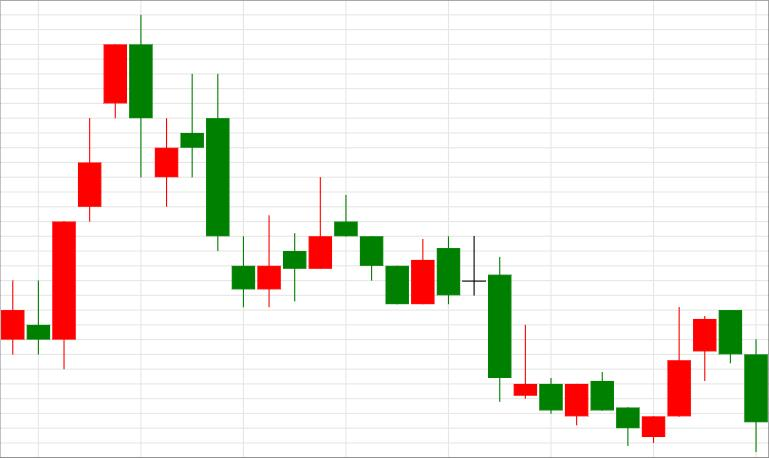bearish_engulfing_fall: (1, 15, 152, 369)
three_white_soldiers_rise: (463, 235, 716, 446)
